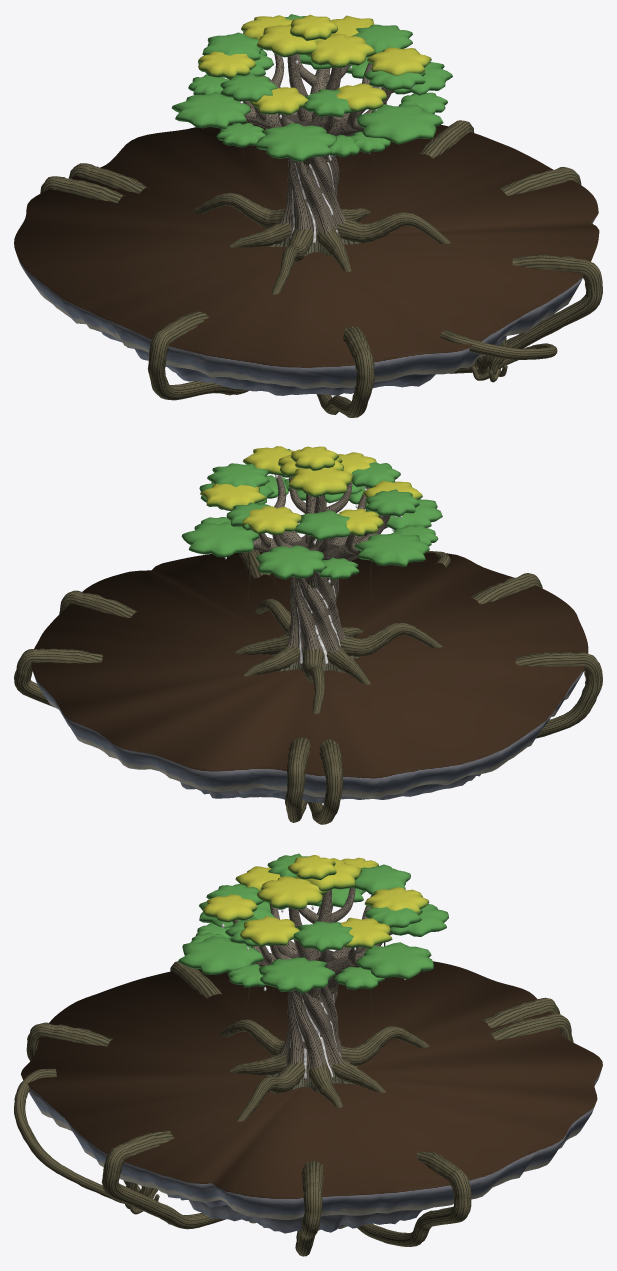
The model's file is Yggdrasil_Island.fbx.
3 renders of one model, top to bottom at view 1: azimuth 30°, elevation 25°; view 2: azimuth 150°, elevation 25°; view 3: azimuth 270°, elevation 25°, orthographic. The views are drawn at different scales.
Parts seen in each view (by area): view 1: YG_Slab0, YG_CrownUpper, YG_CrownLower, YG_Trunk, YG_GripRoot1, YG_GripRoot3, YG_Slab1, YG_GripRoot2, YG_MoundRoot0, YG_PathRoot, YG_MoundRoot4, YG_GripRoot4 (+7 smaller); view 2: YG_Slab0, YG_CrownUpper, YG_CrownLower, YG_Trunk, YG_GripRoot3, YG_GripRoot6, YG_GripRoot4, YG_GripRoot5, YG_MoundRoot2, YG_GripRoot0, YG_GripRoot2, YG_MoundRoot4 (+6 smaller); view 3: YG_Slab0, YG_CrownUpper, YG_CrownLower, YG_Trunk, YG_GripRoot1, YG_GripRoot6, YG_Slab2, YG_PathRoot, YG_GripRoot0, YG_GripRoot2, YG_MoundRoot4, YG_MoundRoot0 (+7 smaller).
Part boxes in pixels (left/top/right/bottom): YG_Slab0: left=14, top=122, right=599, bottom=388; YG_CrownUpper: left=198, top=14, right=431, bottom=117; YG_CrownLower: left=171, top=49, right=452, bottom=161; YG_Trunk: left=266, top=114, right=360, bottom=256; YG_GripRoot1: left=449, top=254, right=602, bottom=373; YG_GripRoot3: left=147, top=311, right=248, bottom=400; YG_Slab1: left=96, top=330, right=506, bottom=395; YG_GripRoot2: left=317, top=326, right=375, bottom=417; YG_MoundRoot0: left=337, top=212, right=450, bottom=243; YG_PathRoot: left=440, top=330, right=557, bottom=368; YG_MoundRoot4: left=193, top=192, right=284, bottom=228; YG_GripRoot4: left=40, top=176, right=125, bottom=202; YG_Slab0: left=31, top=551, right=588, bottom=798; YG_CrownUpper: left=200, top=446, right=422, bottom=540; YG_CrownLower: left=181, top=475, right=442, bottom=579; YG_Trunk: left=271, top=535, right=360, bottom=672; YG_GripRoot3: left=515, top=652, right=602, bottom=738; YG_GripRoot6: left=14, top=648, right=102, bottom=707; YG_GripRoot4: left=308, top=739, right=343, bottom=824; YG_GripRoot5: left=285, top=737, right=310, bottom=822; YG_MoundRoot2: left=340, top=622, right=442, bottom=656; YG_GripRoot0: left=59, top=590, right=137, bottom=617; YG_GripRoot2: left=470, top=573, right=542, bottom=604; YG_MoundRoot4: left=302, top=648, right=325, bottom=713; YG_Slab0: left=21, top=961, right=602, bottom=1219; YG_CrownUpper: left=203, top=853, right=429, bottom=952; YG_CrownLower: left=178, top=888, right=448, bottom=993; YG_Trunk: left=265, top=949, right=357, bottom=1093; YG_GripRoot1: left=101, top=1130, right=225, bottom=1229; YG_GripRoot6: left=357, top=1150, right=471, bottom=1246; YG_Slab2: left=180, top=1198, right=422, bottom=1233; YG_PathRoot: left=14, top=1068, right=128, bottom=1204; YG_GripRoot0: left=295, top=1161, right=323, bottom=1256; YG_GripRoot2: left=26, top=1022, right=112, bottom=1061; YG_MoundRoot4: left=340, top=1026, right=429, bottom=1065; YG_MoundRoot0: left=236, top=1061, right=305, bottom=1121.
Bounding box in the file's own units: 521 × 327 × 526.
Materials: 1 (1 with a texture image).
